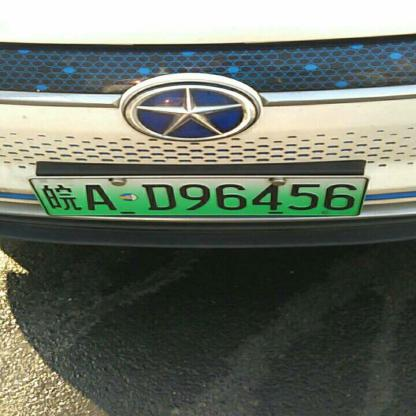lp: (28, 176, 52, 214)
